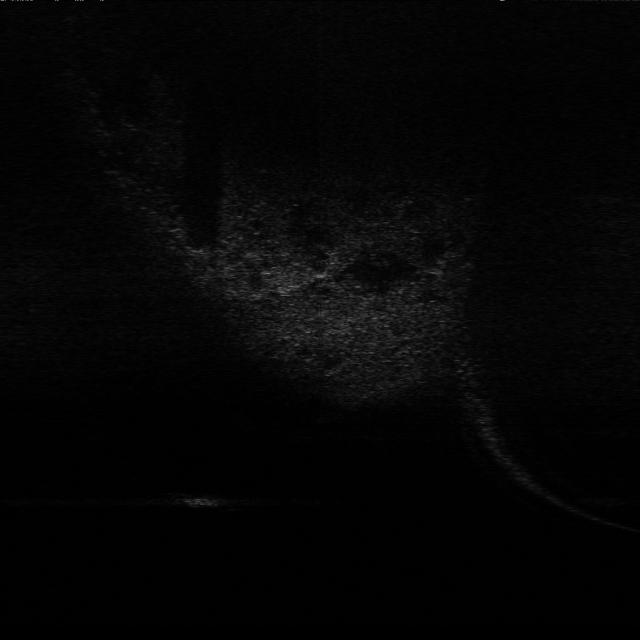square cage: (176, 474, 240, 512)
